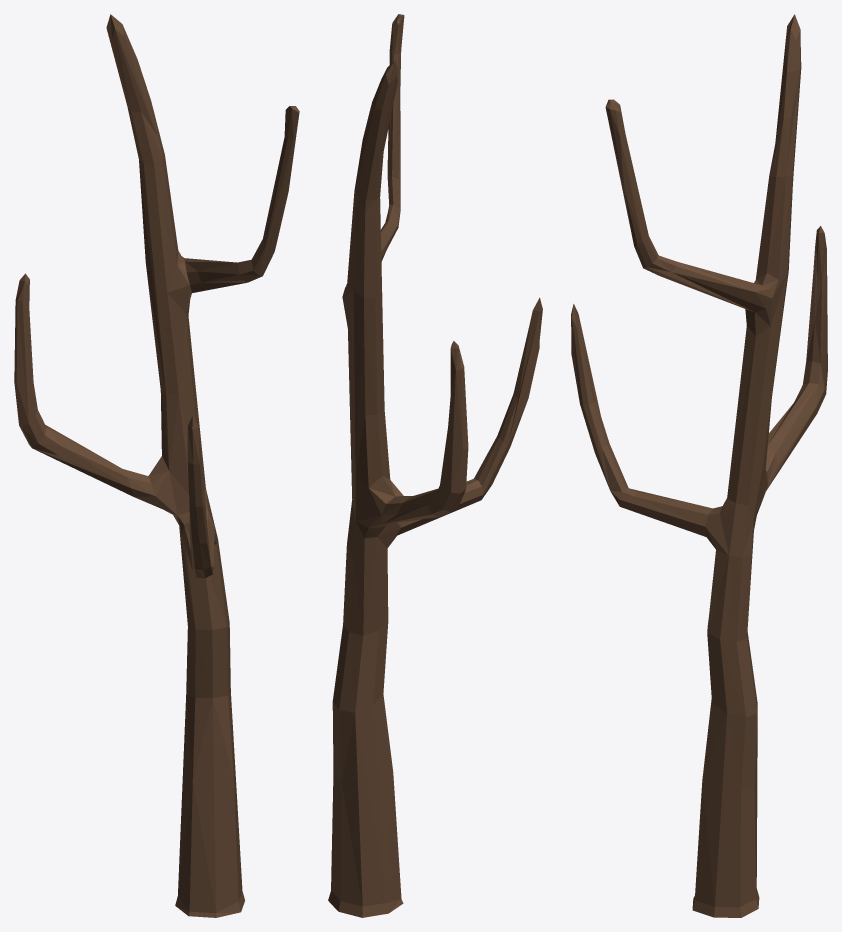
File: CommonTree_Dead_3.glb
3 views of the same model, side by side, from view 1: azimuth 30°, elevation 25°; view 2: azimuth 150°, elevation 25°; view 3: azimuth 270°, elevation 25° (orthographic). The views are drawn at different scales.
Parts seen in each view (by area): view 1: CommonTree_Dead_3; view 2: CommonTree_Dead_3; view 3: CommonTree_Dead_3.
Boxes of the visible parts, x1=… form: CommonTree_Dead_3: x1=14, y1=14, x2=299, y2=917; CommonTree_Dead_3: x1=328, y1=14, x2=542, y2=917; CommonTree_Dead_3: x1=571, y1=14, x2=827, y2=917.
Bounding box in the file's own units: 0.6349 × 3 × 0.8109.
